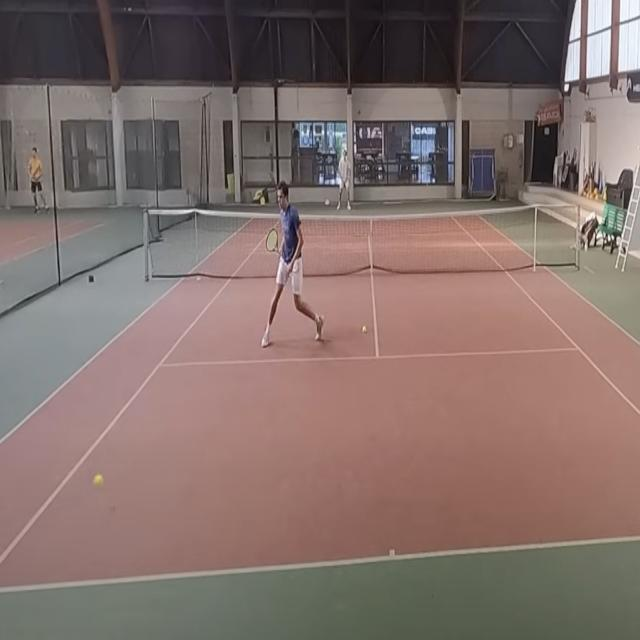ball: (92, 474, 104, 492), (362, 325, 367, 335)
